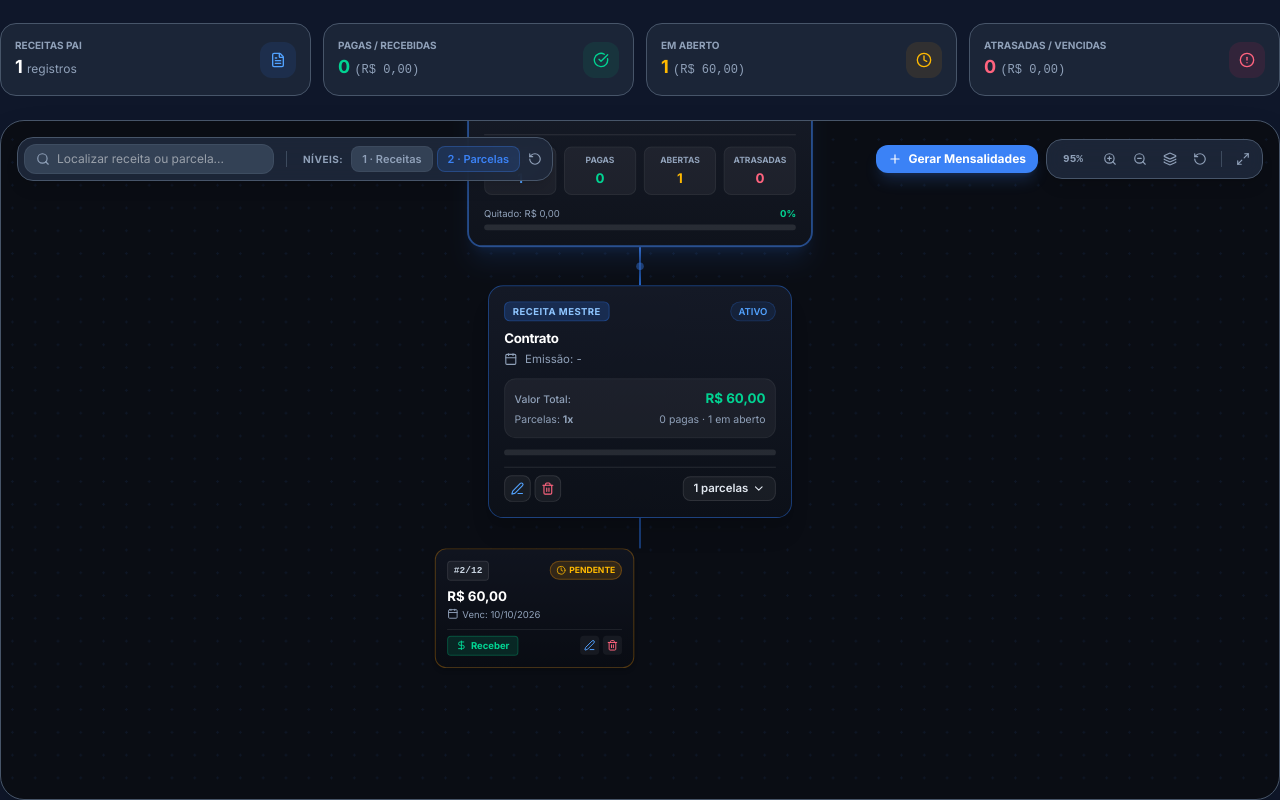
Test: recebimento de parcela no cadastro do associado › ao concluir, o recibo abre sozinho com o que acabou de ser recebido
(page scrolled)
Step 1. Click the button "Receber" → (482, 645), box [447,635,518,655]
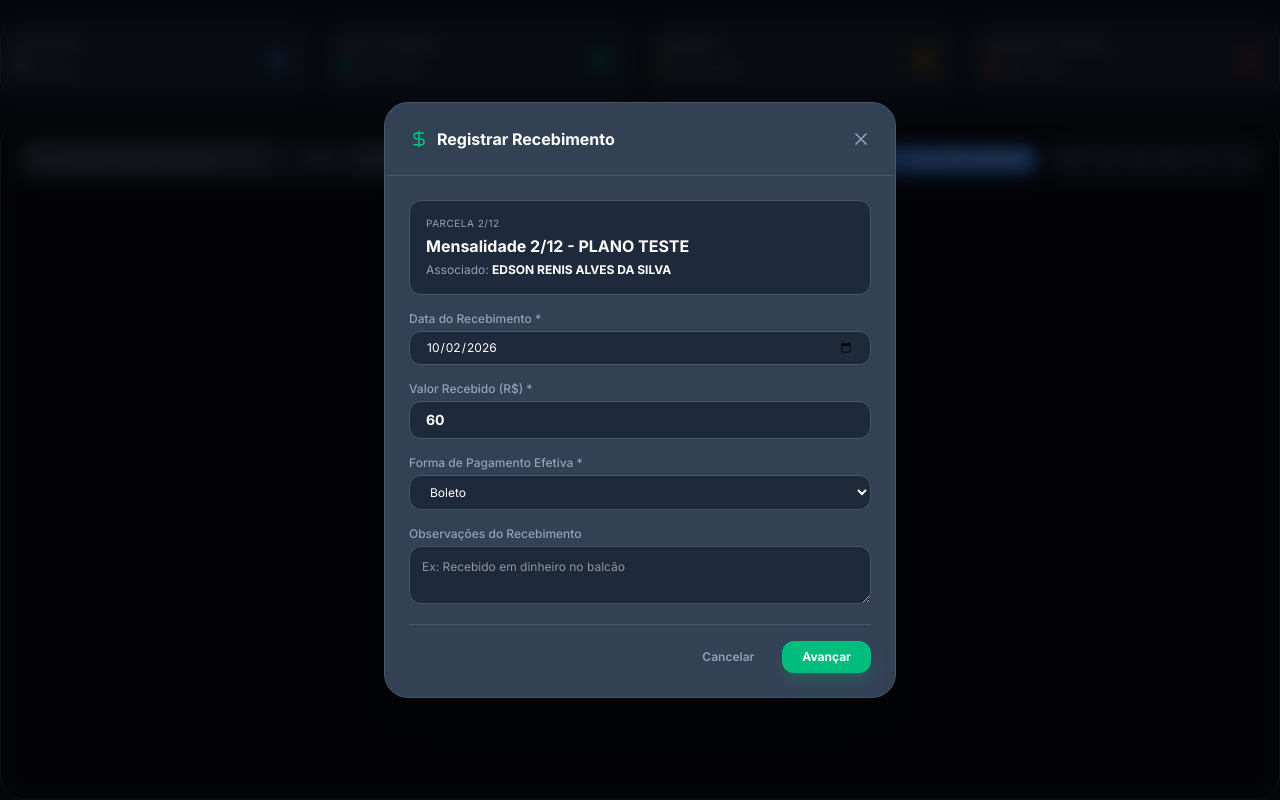
Step 2. Click the button "Avançar" → (827, 657), box [782,641,871,673]
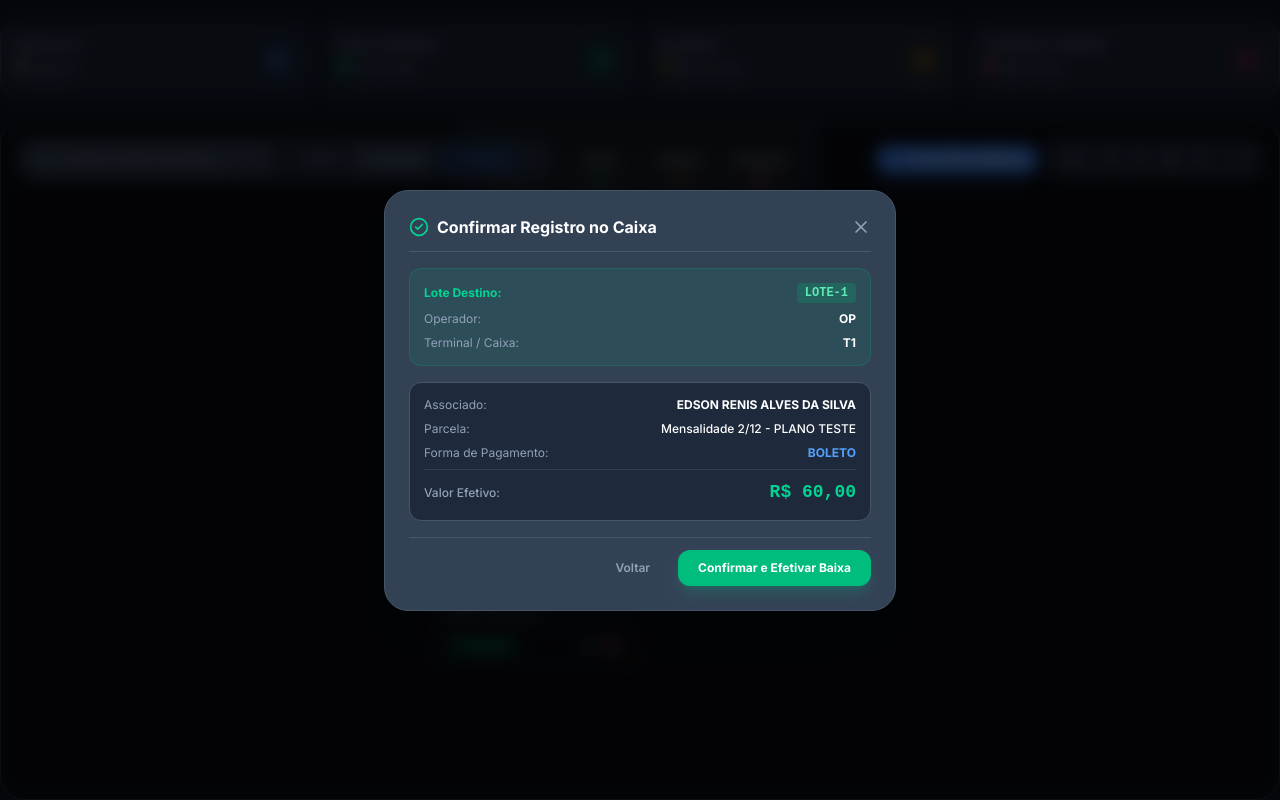
Step 3. Click the button "Confirmar e Efetivar Baixa" → (775, 568), box [678,550,871,586]
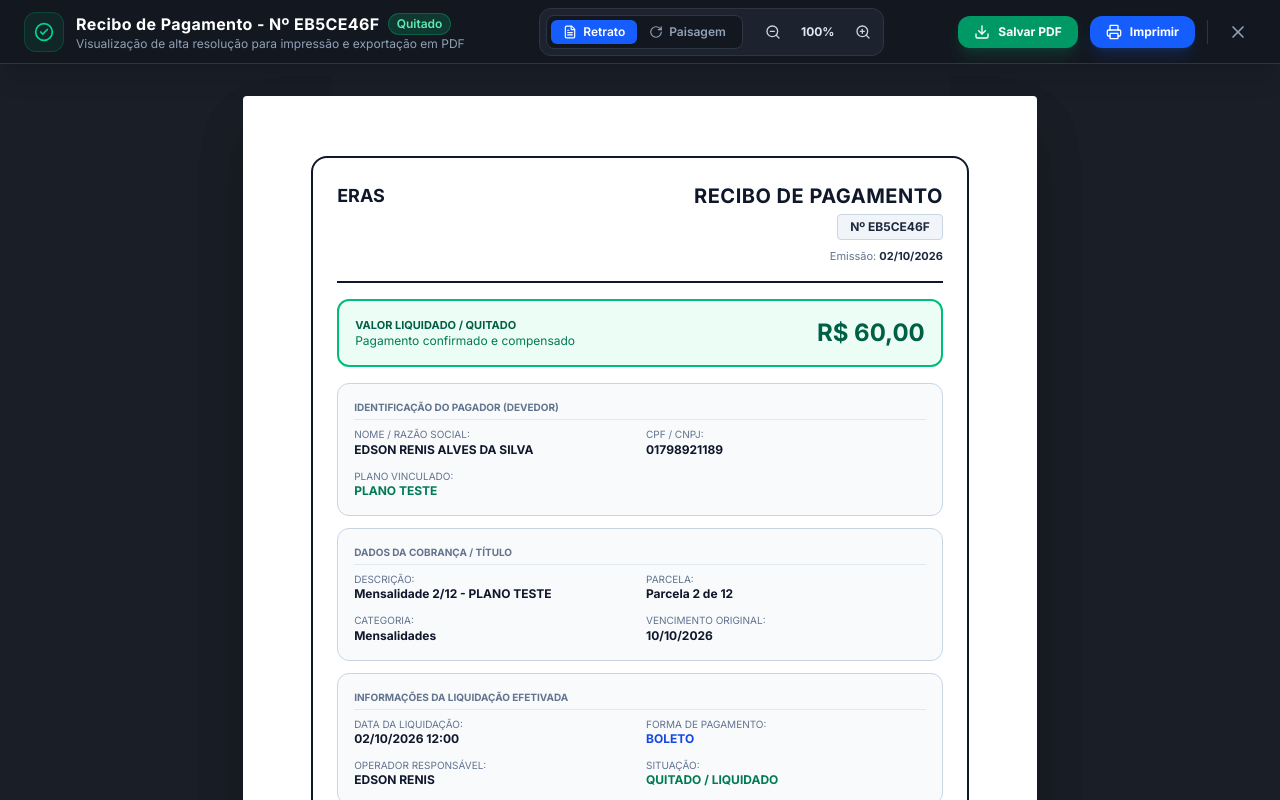
Check: the text "Mensalidade 2/12 - PLANO TESTE" is shown, box [354,586,552,602]
Check: the heading "Recibo de Pagamento - Nº EB5CE46F" is shown, box [76,12,380,36]
